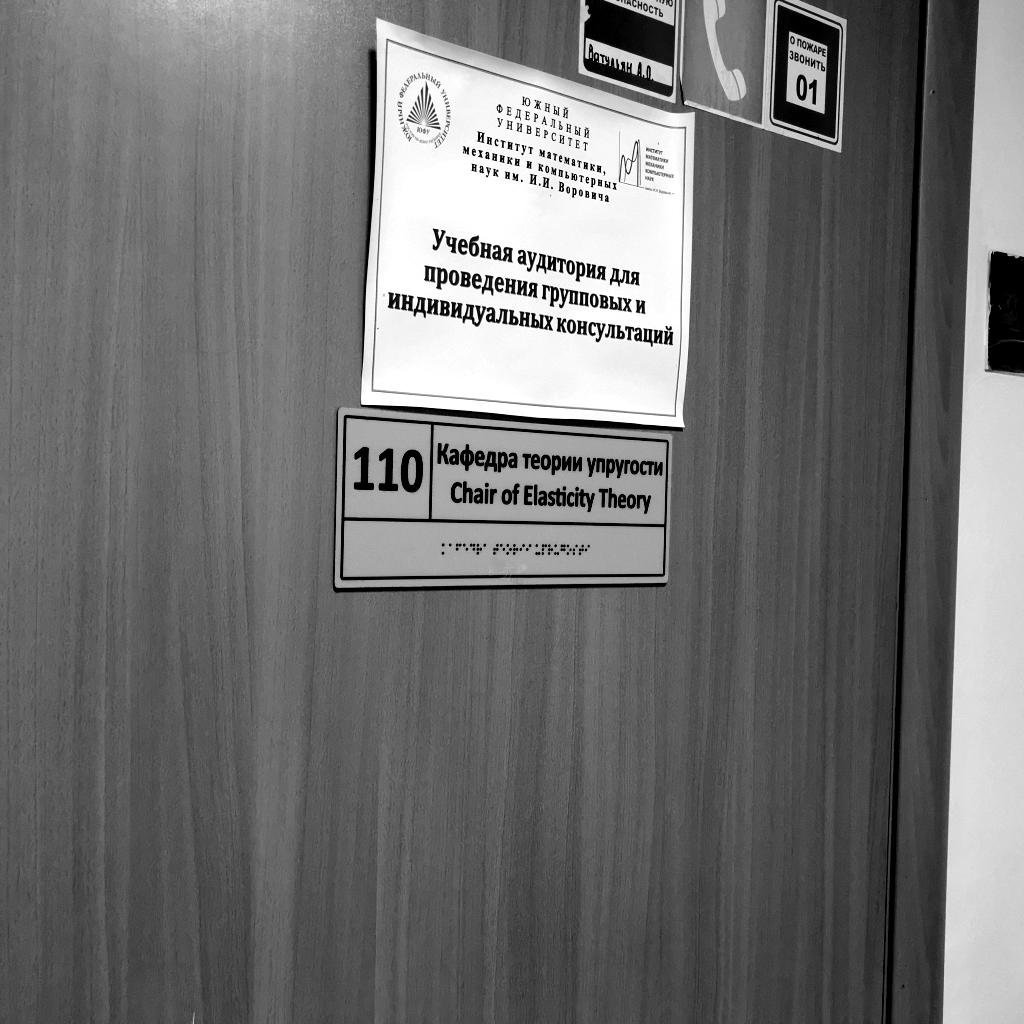_y: (535, 544, 541, 556), (554, 544, 559, 556)
a: (449, 543, 455, 555), (483, 543, 489, 555)
d: (470, 544, 476, 556)
e: (463, 544, 469, 556), (500, 544, 505, 556)
f: (456, 543, 462, 555)
g: (561, 544, 566, 556)
i: (519, 544, 525, 556), (526, 544, 531, 556), (585, 544, 590, 556)
k: (441, 543, 448, 555)
o: (506, 544, 512, 556), (567, 544, 572, 555)
p: (542, 544, 548, 556)
r: (476, 544, 482, 556), (513, 544, 518, 556), (548, 544, 553, 556)
s: (573, 544, 578, 556)
t: (493, 543, 499, 555), (579, 544, 584, 556)
